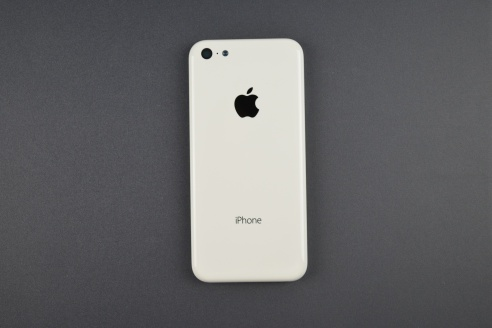apple: (222, 80, 272, 124)
